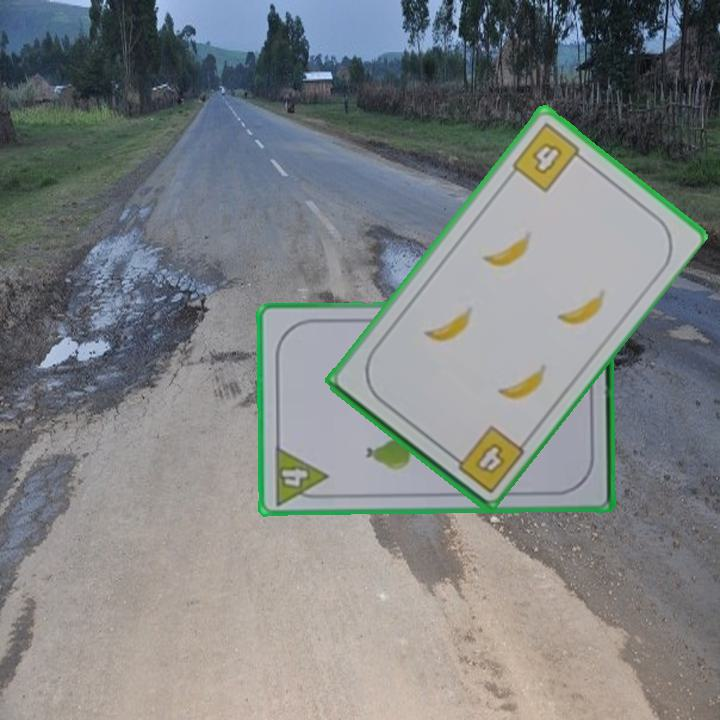4b: (508, 119, 589, 196), (444, 421, 527, 496)
4p: (270, 443, 330, 508)
